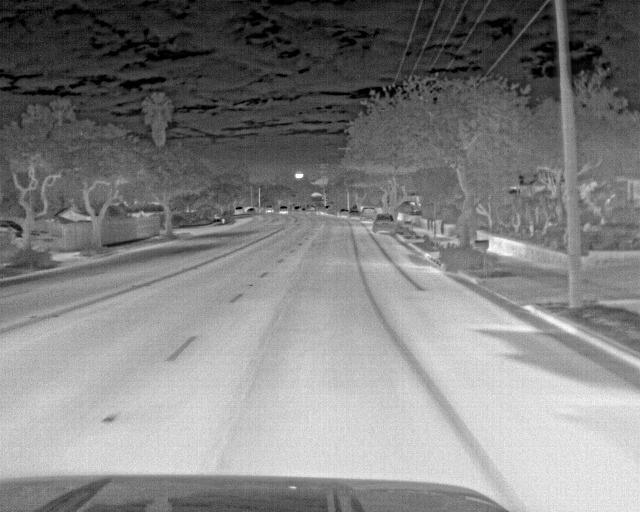car: (370, 213, 394, 233), (0, 219, 26, 236), (360, 204, 379, 222), (349, 205, 363, 220), (338, 204, 351, 219), (264, 203, 278, 216), (233, 204, 246, 217), (276, 204, 288, 215)
